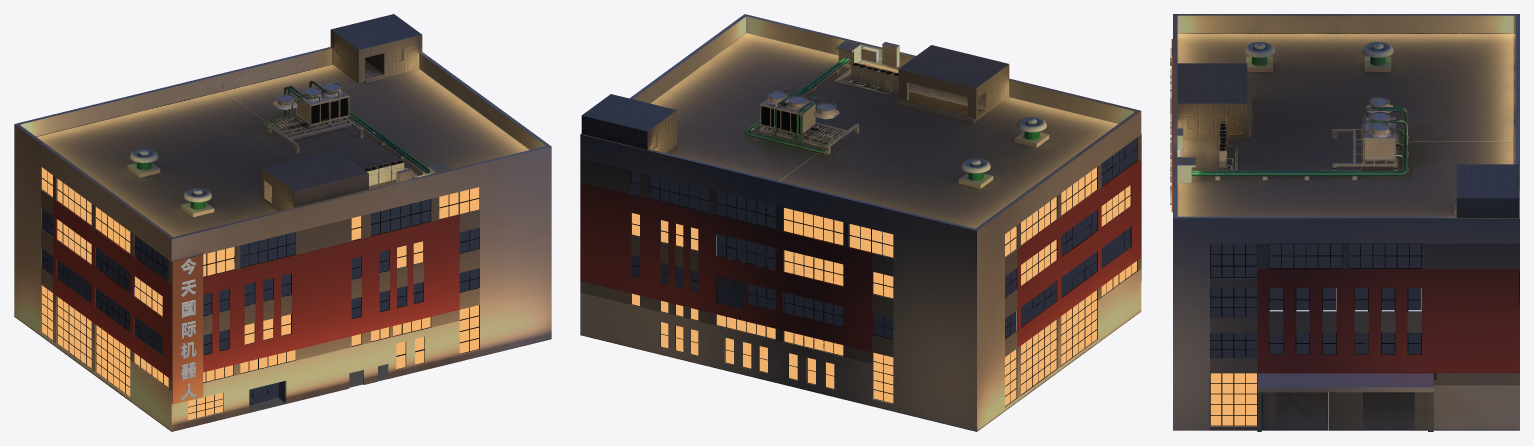
Rendered from JQL.FBX.
3 views of the same model, side by side, from view 1: azimuth 30°, elevation 25°; view 2: azimuth 150°, elevation 25°; view 3: azimuth 270°, elevation 25° (orthographic). The views are drawn at different scales.
Visible parts, largest first — view 1: JQL_05, Light_05, Object026, JQL_11, JQL_20, JQL_18, JQL_08, Light_07; view 2: JQL_05, Light_05, Object026, JQL_11, JQL_18, JQL_20, JQL_08, JQL_02; view 3: JQL_05, Object026, JQL_11, JQL_18, JQL_02, JQL_20, Light_05, JQL_08.
Boxes of the visible parts, <box> form: JQL_05: <box>14,47,551,431</box>; Light_05: <box>42,167,479,420</box>; Object026: <box>42,199,479,404</box>; JQL_11: <box>259,14,422,211</box>; JQL_20: <box>41,167,479,420</box>; JQL_18: <box>223,56,450,186</box>; JQL_08: <box>127,148,214,217</box>; Light_07: <box>181,259,196,400</box>; JQL_05: <box>580,14,1141,431</box>; Light_05: <box>632,167,1136,405</box>; Object026: <box>632,138,1136,338</box>; JQL_11: <box>581,45,1009,152</box>; JQL_18: <box>744,40,899,180</box>; JQL_20: <box>631,146,1137,406</box>; JQL_08: <box>958,117,1049,188</box>; JQL_02: <box>716,276,744,308</box>; JQL_05: <box>1171,14,1519,431</box>; Object026: <box>1210,243,1421,357</box>; JQL_11: <box>1177,63,1518,217</box>; JQL_18: <box>1177,97,1514,182</box>; JQL_02: <box>1276,392,1414,430</box>; JQL_20: <box>1210,243,1421,425</box>; Light_05: <box>1210,373,1256,425</box>; JQL_08: <box>1243,42,1393,71</box>.
Bounding box in the file's own units: 54.46 × 36.89 × 27.65.
12 materials, 6 textured.
